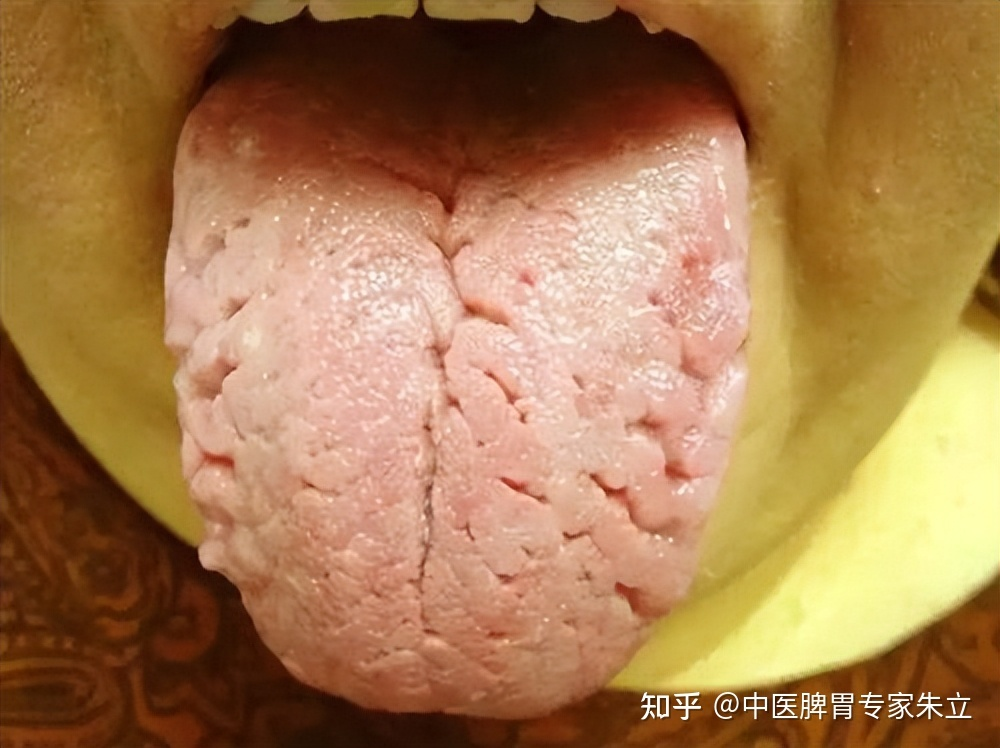baitaishe: (159, 38, 750, 725)
liewenshe: (404, 159, 459, 653), (591, 407, 686, 553), (196, 289, 247, 495)
